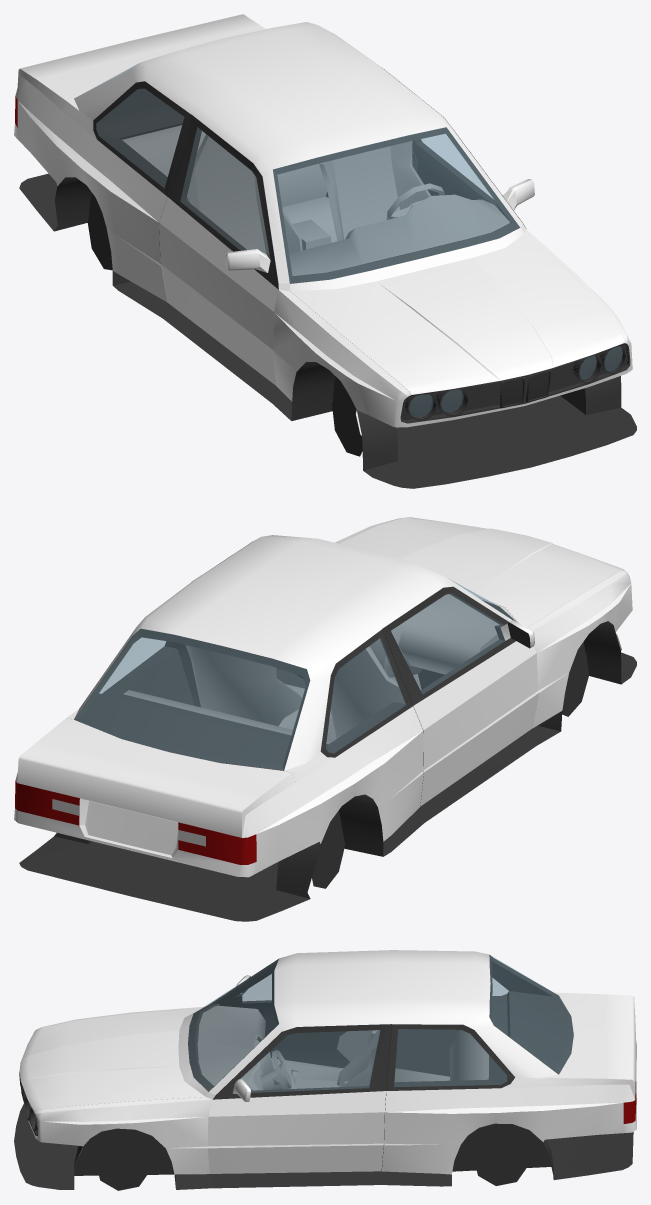
Rendered from Classic_15.FBX.
The picture shows the model from 3 angles, top to bottom: view 1: azimuth 30°, elevation 25°; view 2: azimuth 150°, elevation 25°; view 3: azimuth 270°, elevation 25°; orthographic projection. The views are drawn at different scales.
Parts seen in each view (by area): view 1: Classic_15_Body, Classic_15_Roof, Classic_15_Hood, Classic_15_Interior, Classic_15_Glass_F, Classic_15_Door_R, Classic_15_Trunk, Classic_15_Glass_FR, Classic_15_Glass_BR, Classic_15_Door_L, Classic_15_Glass_FL; view 2: Classic_15_Body, Classic_15_Roof, Classic_15_Glass_R, Classic_15_Interior, Classic_15_Trunk, Classic_15_Door_R, Classic_15_Hood, Classic_15_Glass_FR, Classic_15_Glass_BR, Classic_15_Taillights, Classic_15_Glass_BL, Classic_15_Door_L; view 3: Classic_15_Body, Classic_15_Roof, Classic_15_Door_L, Classic_15_Hood, Classic_15_Interior, Classic_15_Glass_FL, Classic_15_Glass_F, Classic_15_Trunk, Classic_15_Glass_R, Classic_15_Glass_BL, Classic_15_Door_R, Classic_15_Glass_FR.
Part boxes in pixels (left/top/right/bottom): Classic_15_Body: left=14, top=76, right=636, bottom=488; Classic_15_Roof: left=74, top=22, right=522, bottom=283; Classic_15_Hood: left=290, top=234, right=624, bottom=394; Classic_15_Interior: left=122, top=125, right=509, bottom=275; Classic_15_Glass_F: left=273, top=127, right=519, bottom=283; Classic_15_Door_R: left=159, top=114, right=278, bottom=385; Classic_15_Trunk: left=17, top=14, right=265, bottom=110; Classic_15_Glass_FR: left=180, top=127, right=269, bottom=258; Classic_15_Glass_BR: left=96, top=89, right=183, bottom=187; Classic_15_Door_L: left=384, top=69, right=534, bottom=228; Classic_15_Glass_FL: left=421, top=134, right=491, bottom=196; Classic_15_Body: left=14, top=518, right=636, bottom=921; Classic_15_Roof: left=74, top=535, right=512, bottom=770; Classic_15_Glass_R: left=74, top=629, right=309, bottom=770; Classic_15_Interior: left=123, top=594, right=499, bottom=744; Classic_15_Trunk: left=17, top=718, right=295, bottom=837; Classic_15_Door_R: left=382, top=586, right=538, bottom=806; Classic_15_Hood: left=339, top=517, right=623, bottom=627; Classic_15_Glass_FR: left=391, top=594, right=504, bottom=693; Classic_15_Glass_BR: left=326, top=638, right=405, bottom=752; Classic_15_Taillights: left=15, top=781, right=256, bottom=864; Classic_15_Glass_BL: left=100, top=638, right=165, bottom=693; Classic_15_Door_L: left=175, top=541, right=279, bottom=707; Classic_15_Body: left=14, top=991, right=636, bottom=1190; Classic_15_Roof: left=209, top=950, right=558, bottom=1094; Classic_15_Door_L: left=207, top=1024, right=391, bottom=1173; Classic_15_Hood: left=19, top=1008, right=204, bottom=1112; Classic_15_Interior: left=197, top=1005, right=488, bottom=1115; Classic_15_Glass_FL: left=241, top=1030, right=380, bottom=1092; Classic_15_Glass_F: left=188, top=959, right=278, bottom=1091; Classic_15_Trunk: left=558, top=993, right=635, bottom=1099; Classic_15_Glass_R: left=489, top=955, right=573, bottom=1074; Classic_15_Glass_BL: left=394, top=1029, right=508, bottom=1086; Classic_15_Door_R: left=219, top=968, right=349, bottom=1067; Classic_15_Glass_FR: left=242, top=974, right=271, bottom=1000.
Bounding box in the file's own units: 215 × 147 × 489.
